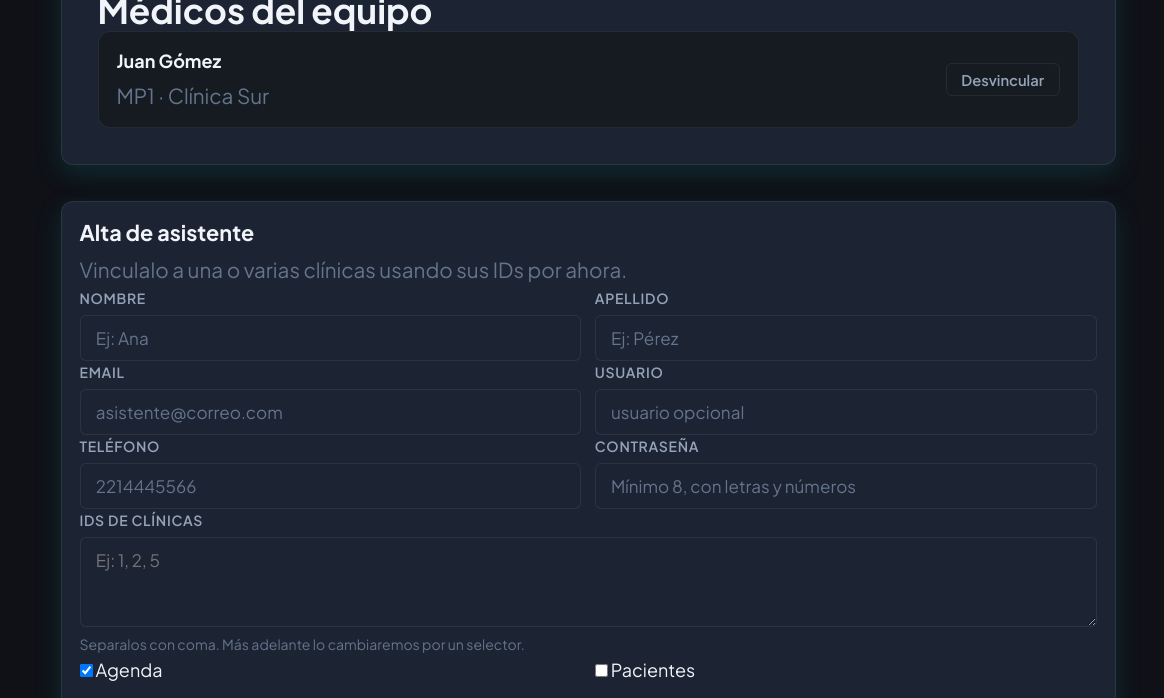
PanelGerentePage › crea asistentes con IDs de clínica
The image size is (1164, 698).
(page scrolled)
Check: the text "Juan Gómez" is shown, box top-left (116, 48), bottom-right (221, 72)
Type "Mía" into the field labelled "Nombre". click: (330, 338)
box: top-left (80, 315), bottom-right (581, 361)
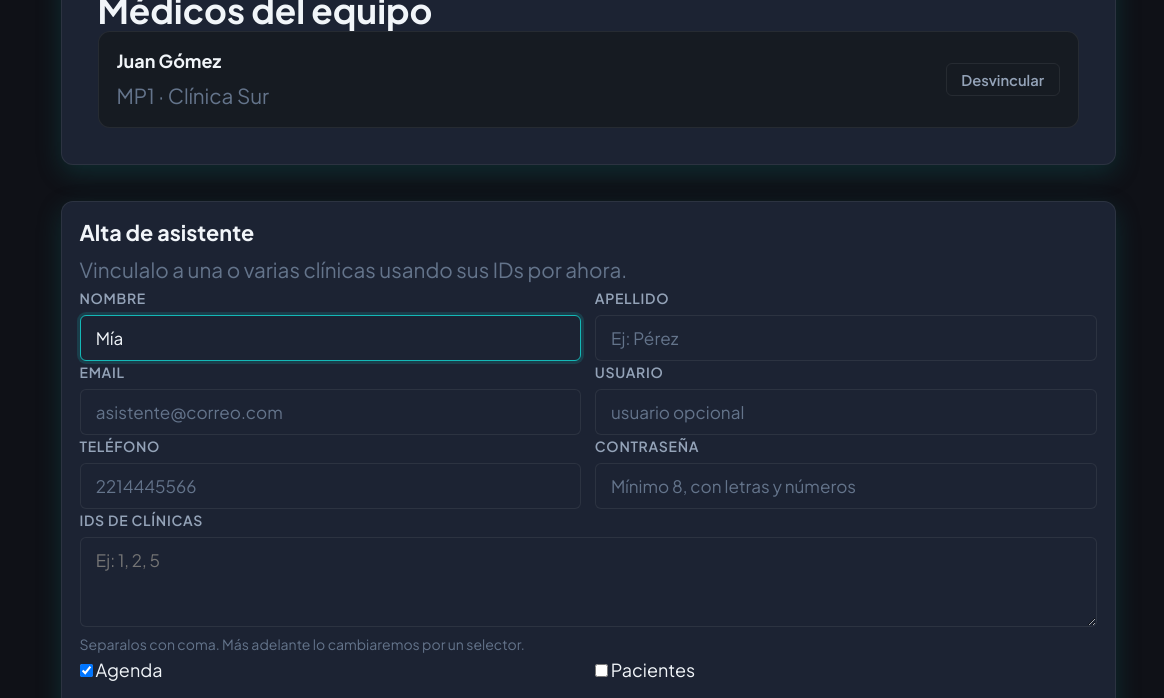
Type "Ruiz" into the field labelled "Apellido". click: (846, 338)
box: top-left (595, 315), bottom-right (1097, 361)
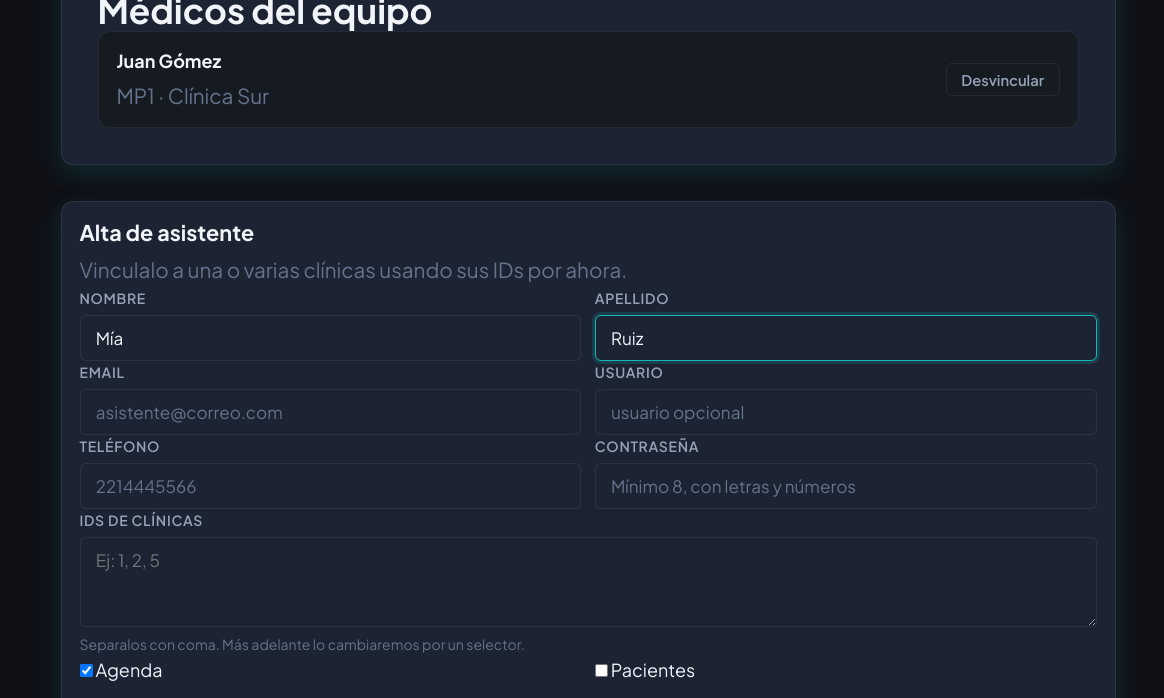
Type "mia@x.com" into the field labelled "Email". click: (330, 412)
box: top-left (80, 389), bottom-right (581, 435)
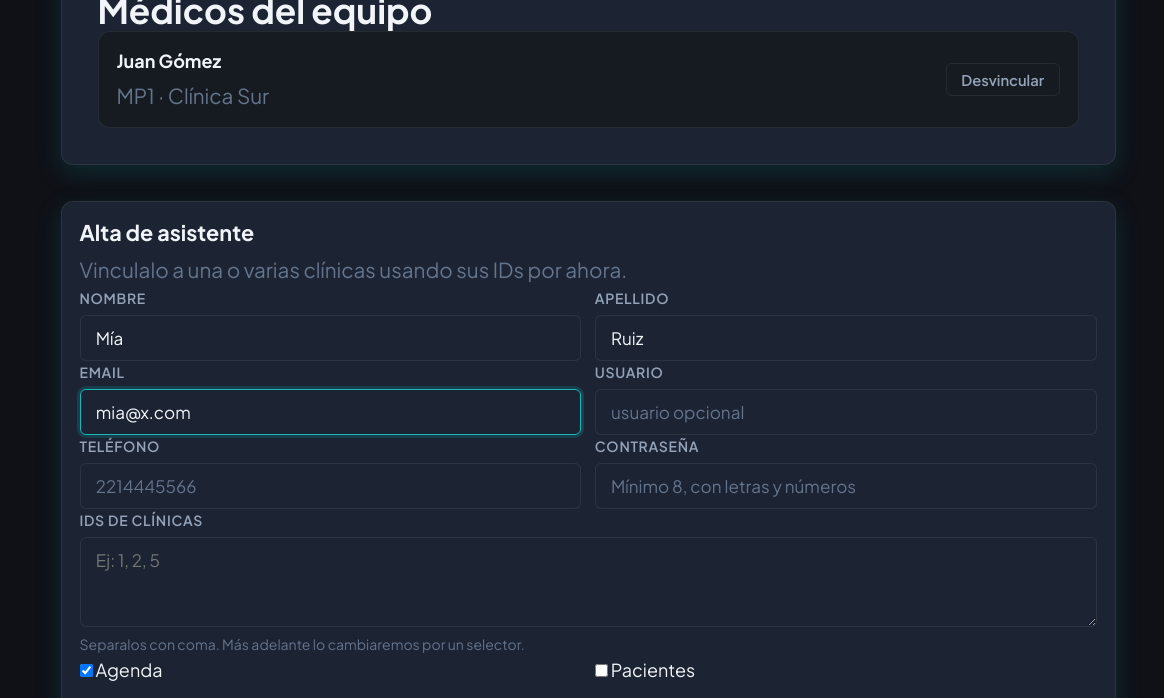
Type "clave1234" into the password field labelled "Contraseña". click: (846, 486)
box: top-left (595, 463), bottom-right (1097, 509)
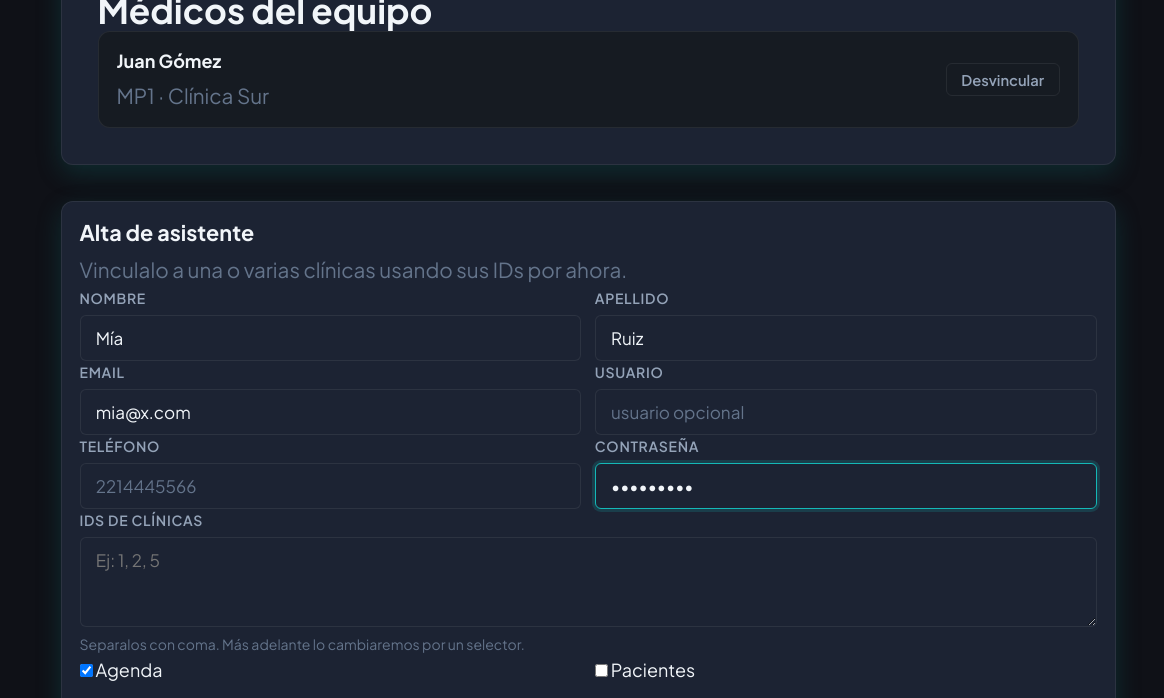
Type "11" into the text box labelled "IDs de clínicas". click: (588, 582)
box: top-left (80, 538), bottom-right (1096, 628)
(page scrolled)
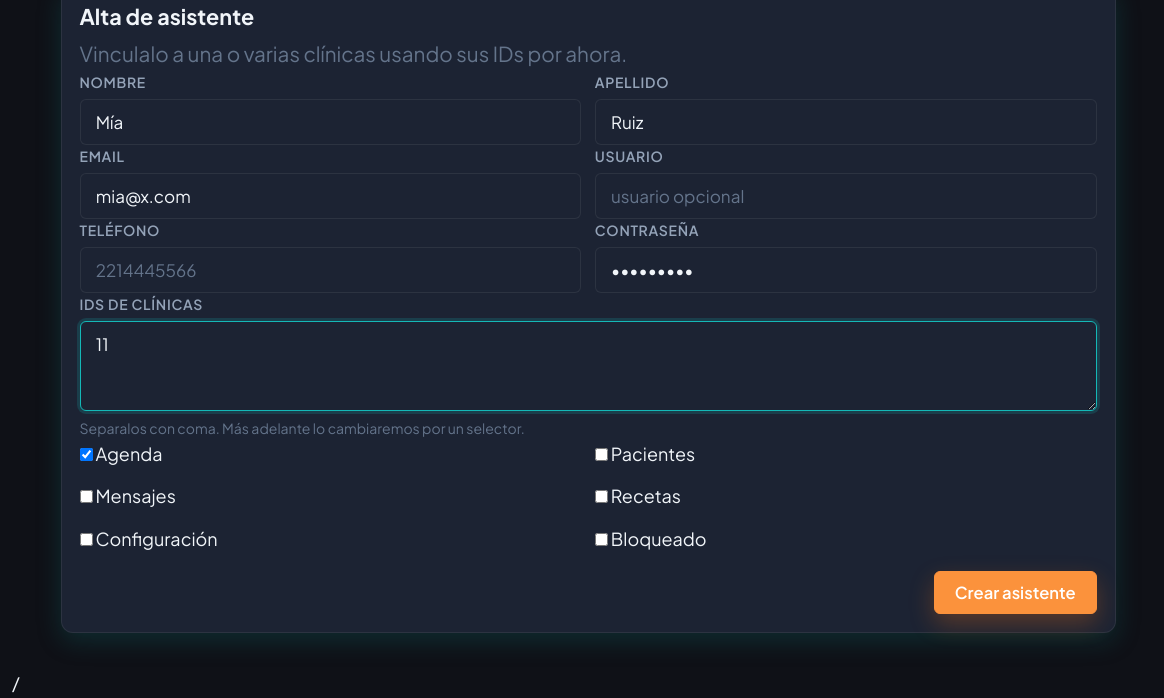
Click the button "Crear asistente". click: (1015, 593)
box: top-left (934, 571), bottom-right (1096, 614)
(page scrolled)
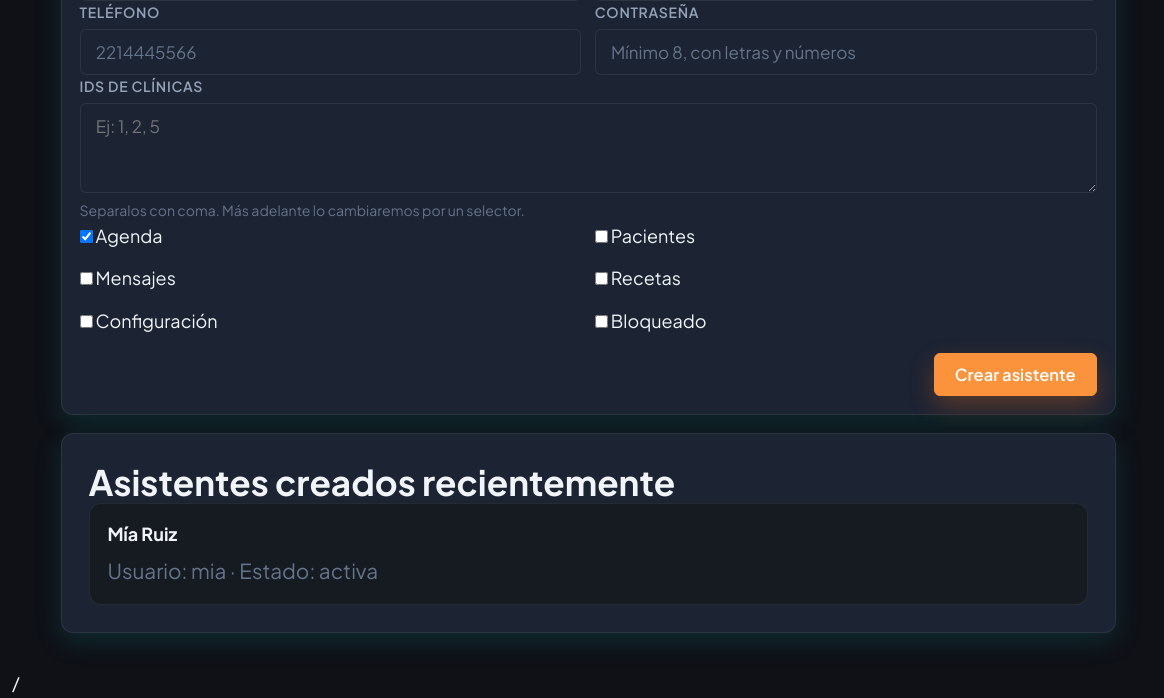
Check: the heading "Asistentes creados recientemente" is shown, box top-left (88, 460), bottom-right (675, 504)
Check: the text "Usuario: mia · Estado: activa" is shown, box top-left (108, 558), bottom-right (378, 584)
